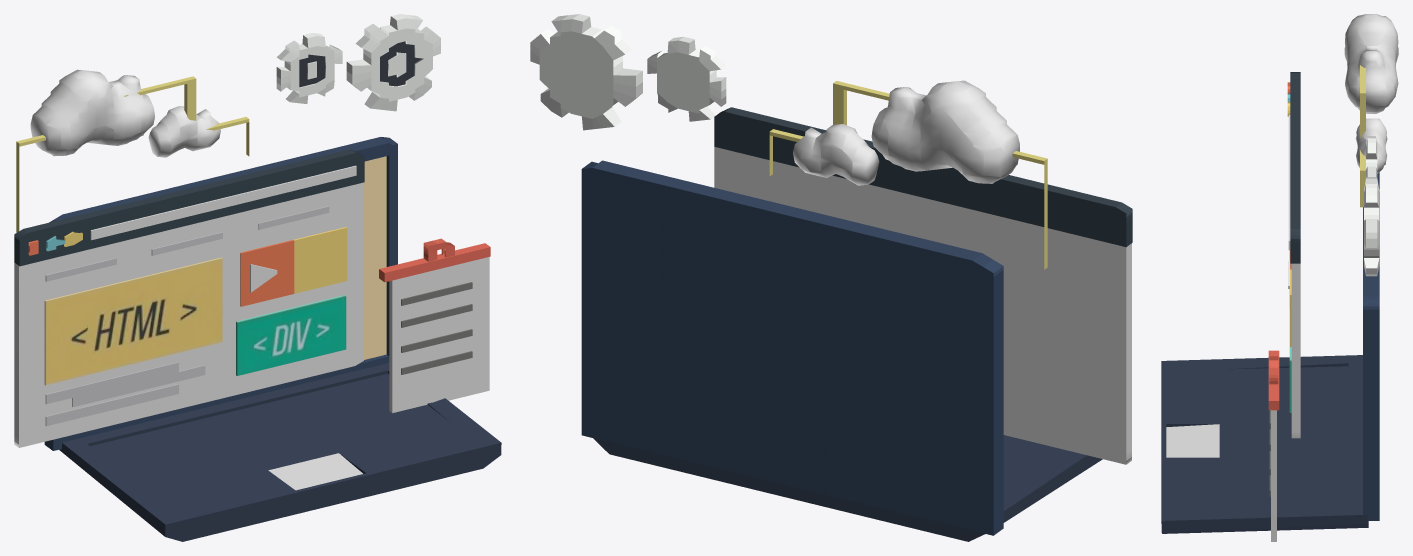
File: system-transformed.glb
3 renders of one model, left to right at view 1: azimuth 30°, elevation 25°; view 2: azimuth 150°, elevation 25°; view 3: azimuth 270°, elevation 25°, orthographic. The views are drawn at different scales.
Parts seen in each view (by area): view 1: Cube_0, Cube.001_0; view 2: Cube_0; view 3: Cube_0.
Part boxes in pixels (box(x1,y1,x2,y2)): Cube_0: box(14, 14, 501, 541); Cube.001_0: box(44, 257, 346, 385); Cube_0: box(530, 14, 1132, 541); Cube_0: box(1161, 14, 1398, 541).
Bounding box in the file's own units: 7.9 × 6.39 × 3.62.
Materials: 2 (2 with a texture image).
